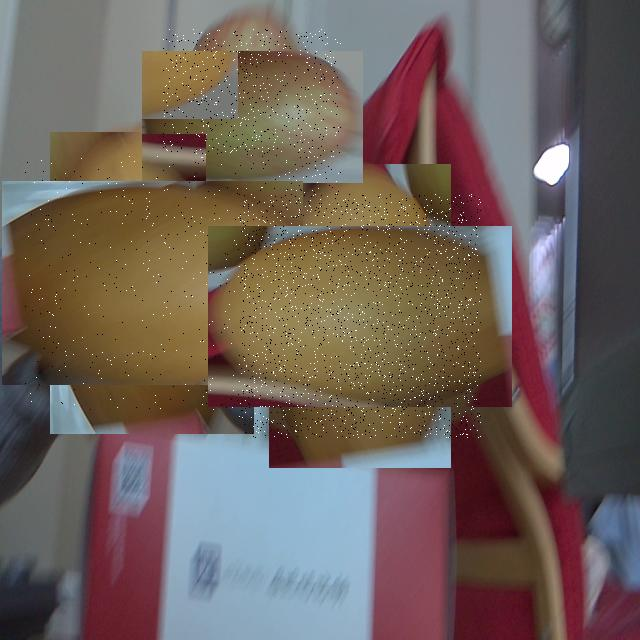apple: (163, 29, 341, 205)
pear: (25, 156, 279, 410), (239, 194, 481, 438)
